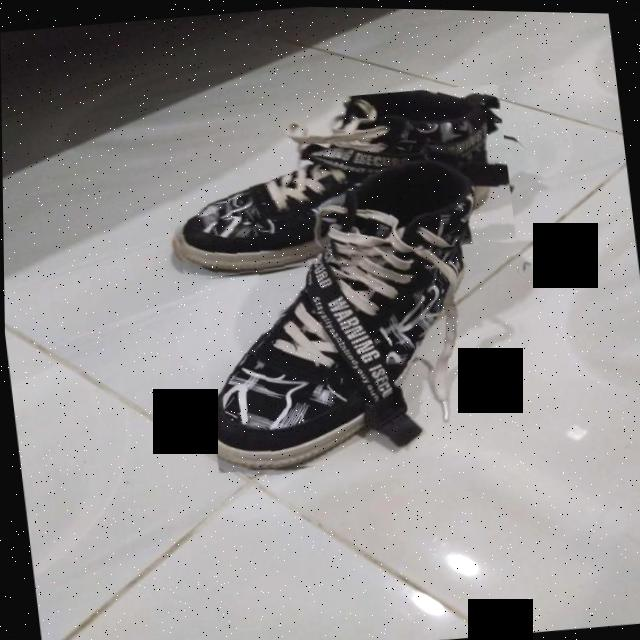shoe: (184, 156, 544, 477), (156, 75, 517, 285)
